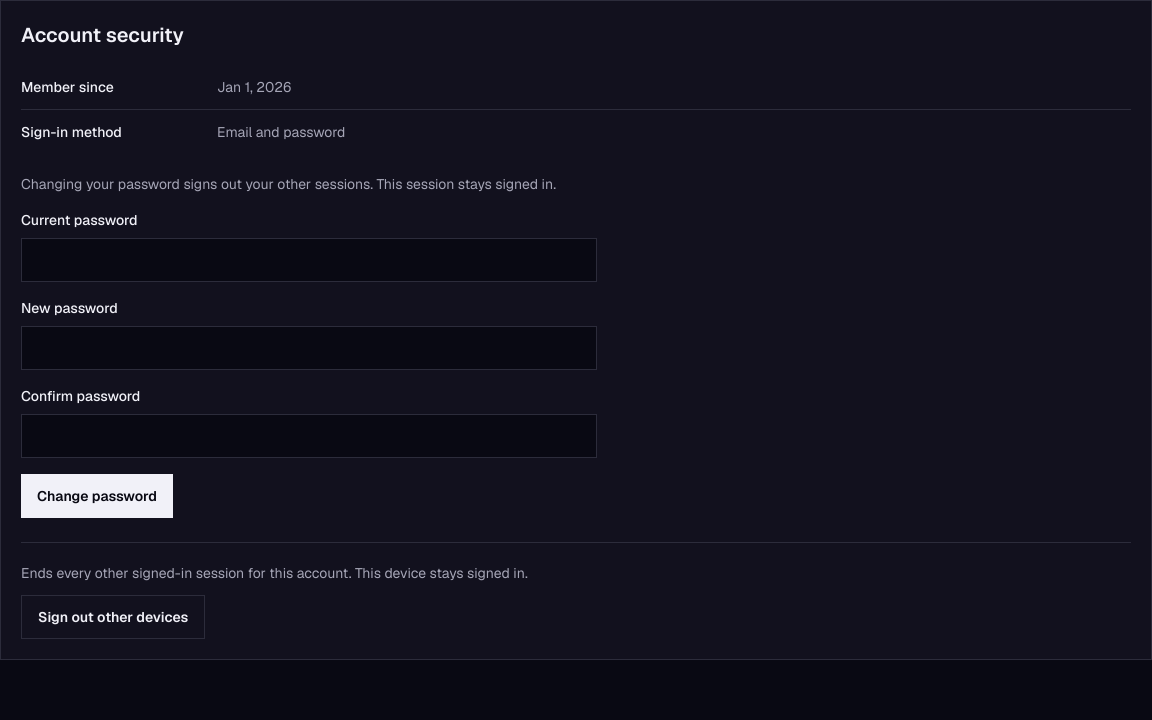
Test case: account security › preserves input and enables retry after {"status":401,"code":"INVALID_CURRENT_PASSWORD","name":"ApiError"}
The width and height of the screenshot is (1152, 720).
Check: the form is shown, box x1=21 y1=174 x2=597 y2=518
Type "fixture-current" into the password field labelled "Current password".
click(309, 260); type("fixture-current")  # box x1=21 y1=238 x2=597 y2=282
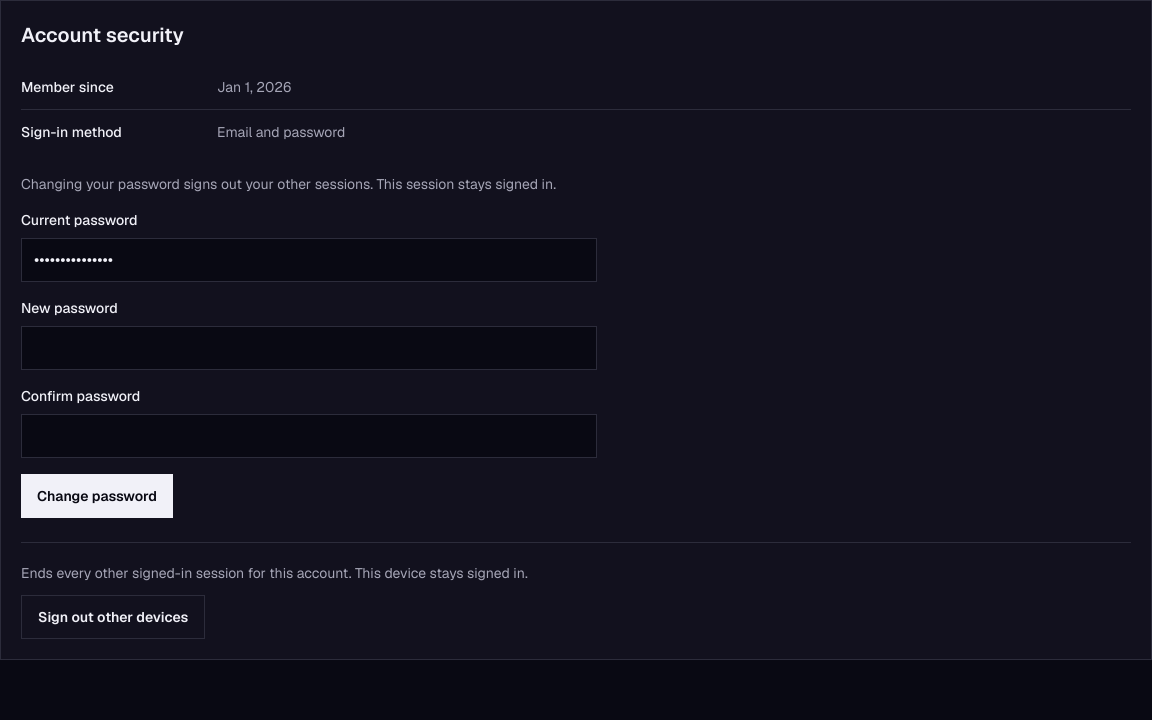
Type "fixture-next-password" into the password field labelled "New password".
click(309, 348); type("fixture-next-password")  # box x1=21 y1=326 x2=597 y2=370
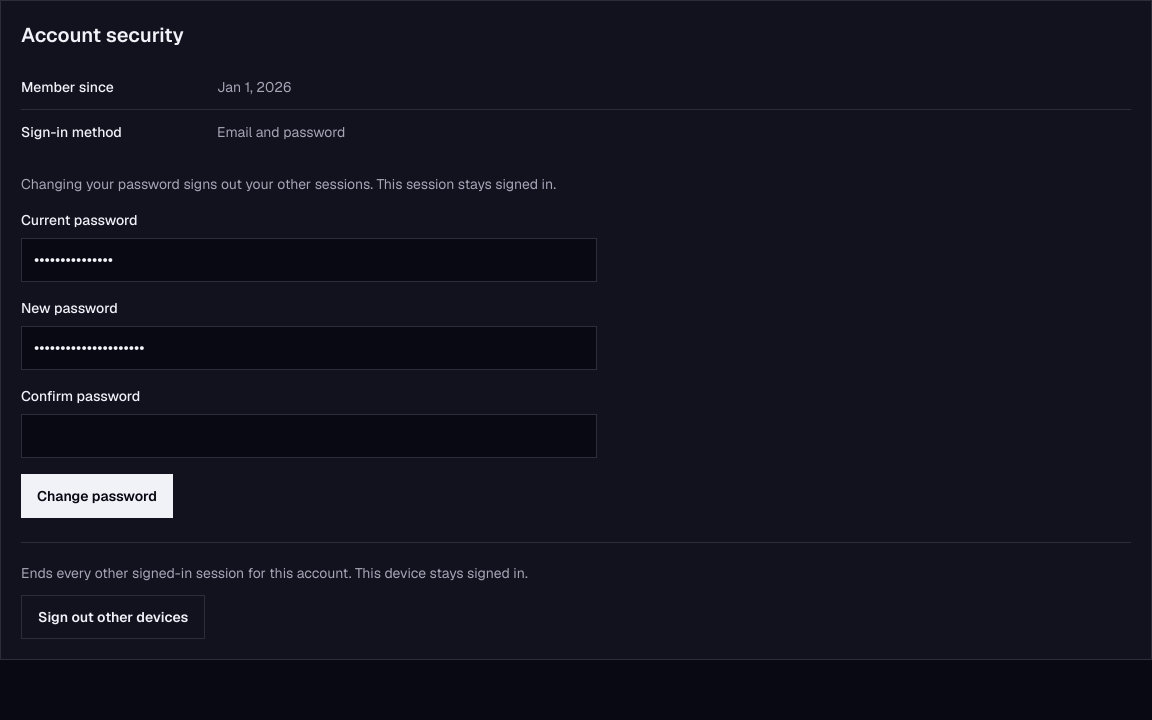
Type "fixture-next-password" into the password field labelled "Confirm password".
click(309, 436); type("fixture-next-password")  # box x1=21 y1=414 x2=597 y2=458
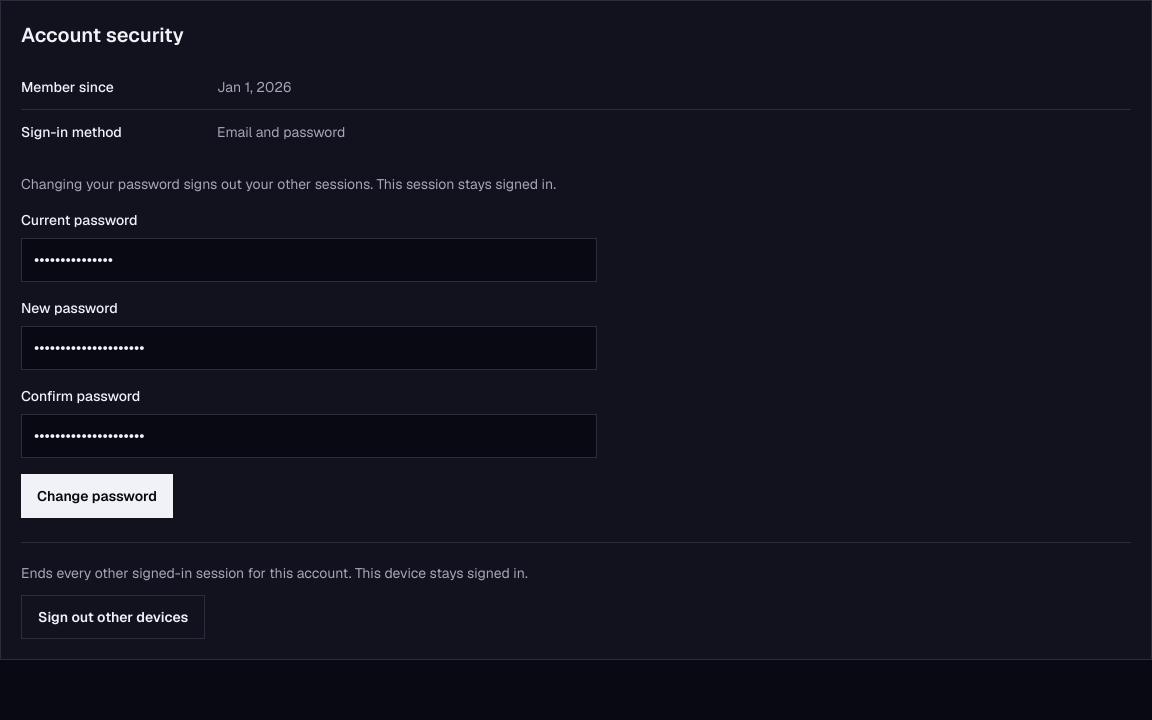
Submit the form, box x1=21 y1=174 x2=597 y2=518
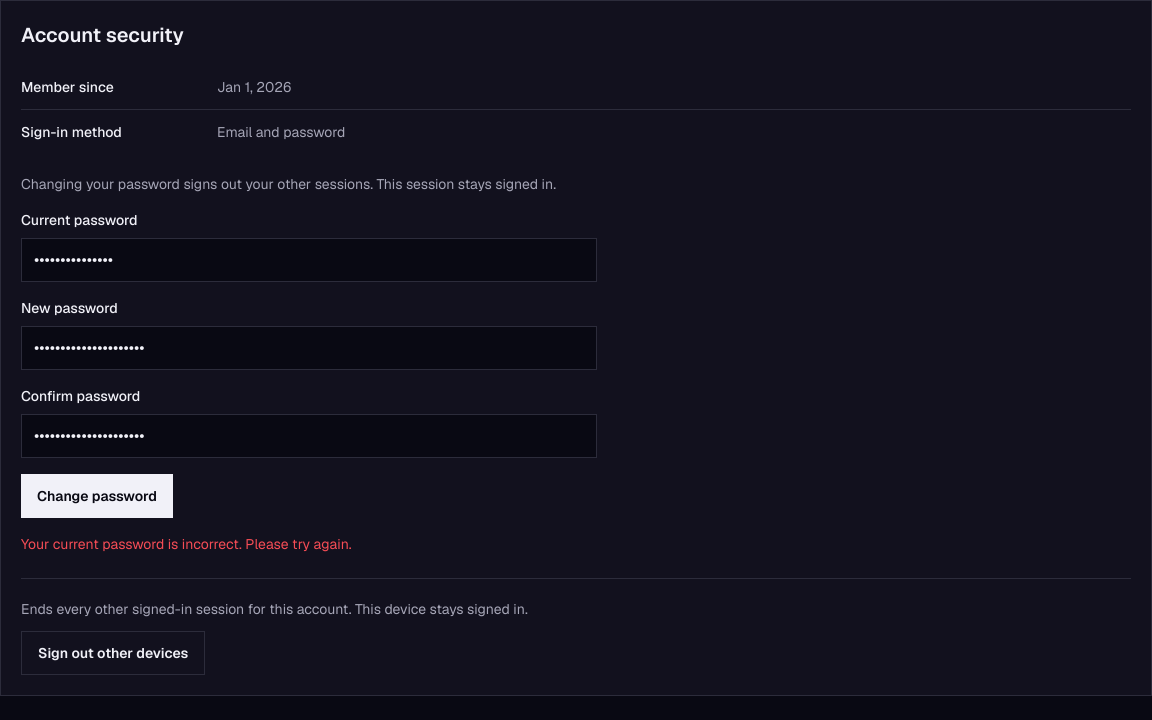
Check: the button "Change password" is enabled, box x1=21 y1=474 x2=173 y2=518
Check: the message reads "Your current password is incorrect. Please try again.", box x1=21 y1=535 x2=352 y2=553
Submit the form, box x1=21 y1=174 x2=597 y2=554
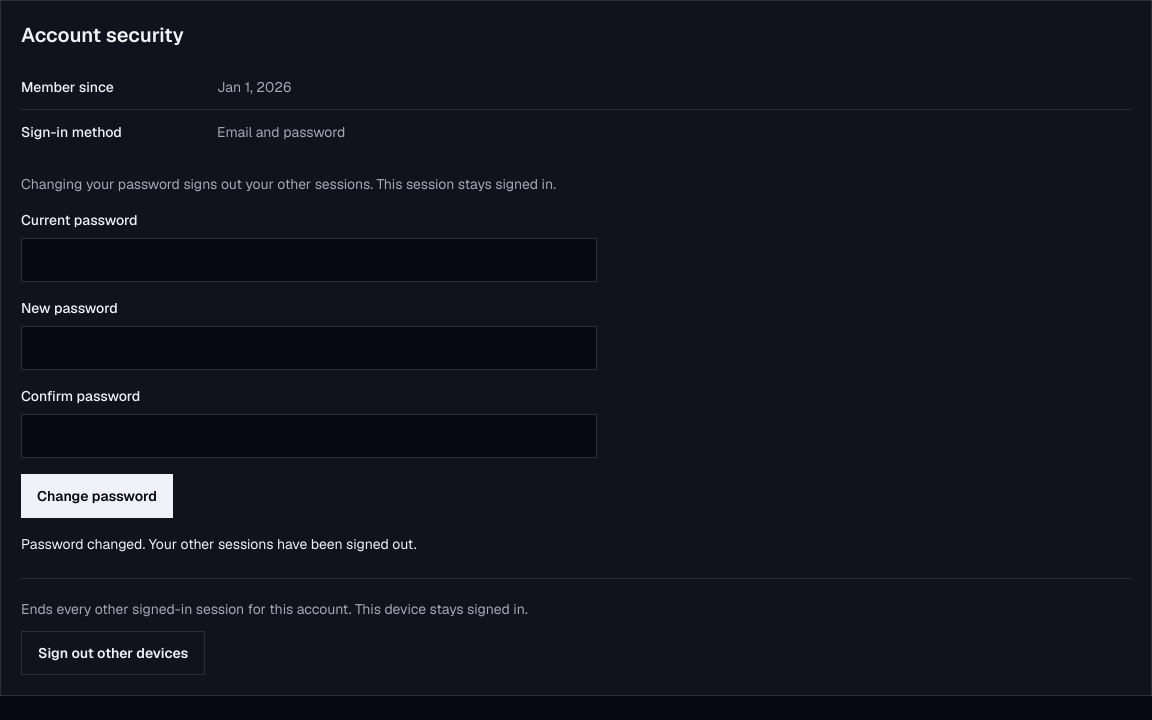
Check: the message reads "Password changed. Your other sessions have been signed out.", box x1=21 y1=535 x2=416 y2=553
